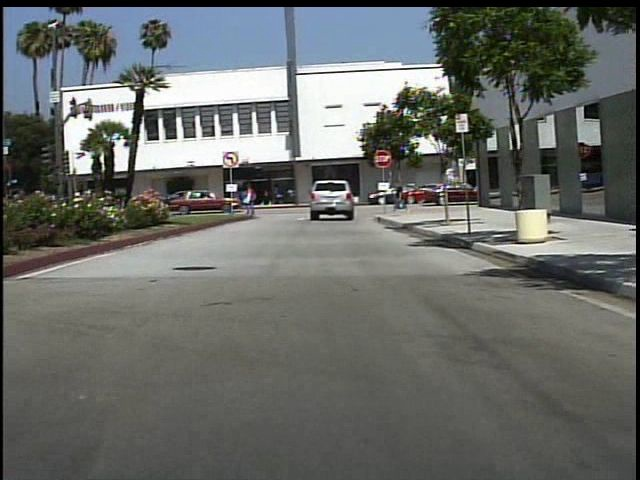person: (244, 180, 266, 220), (392, 177, 412, 214), (280, 181, 281, 208)
